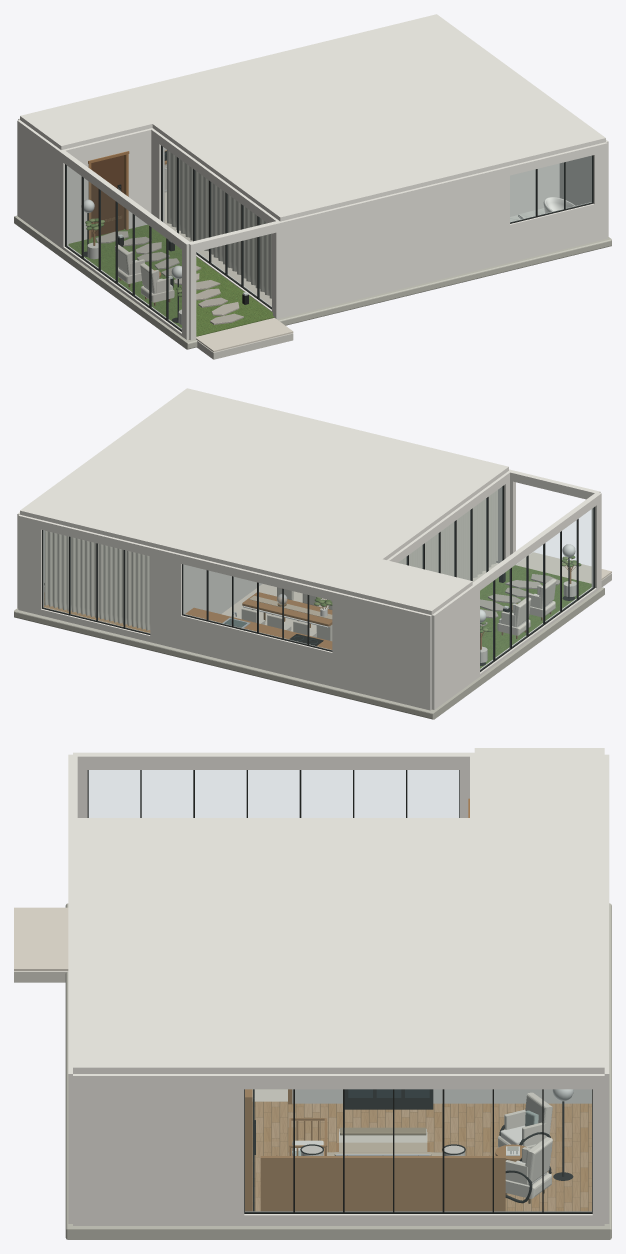
The model's file is home.glb.
3 renders of one model, top to bottom at view 1: azimuth 30°, elevation 25°; view 2: azimuth 150°, elevation 25°; view 3: azimuth 270°, elevation 25°, orthographic. The views are drawn at different scales.
Visible parts, largest first — view 1: 构件_799, 完整墙体 (×17), 构件_86, 构件_126, 构件_35, 构件_6, 构件_800, 构件_73, 构件_793, 构件_792, 构件_162, 构件_8 (+2 smaller); view 2: 构件_799, 完整墙体 (×16), 构件_86, 构件_57, 构件_46, 构件_35, 构件_126, 构件_800, 构件_797, 构件_796, 构件_792, 构件_6 (+5 smaller); view 3: 构件_799, 完整墙体 (×12), 构件_103, 构件_86, 构件_5, 构件_604, 构件_35, 构件_800, 构件_8, 构件_511, 构件_104, 构件_494 (+4 smaller).
Part boxes in pixels (x1,y1,x2,y2): 构件_799: [111, 14, 605, 221]; 完整墙体 (×17): [17, 120, 608, 340]; 构件_86: [66, 165, 181, 329]; 构件_126: [162, 147, 271, 307]; 构件_35: [14, 215, 611, 349]; 构件_6: [68, 224, 274, 336]; 构件_800: [20, 93, 152, 149]; 构件_73: [510, 156, 591, 222]; 构件_793: [167, 150, 222, 261]; 构件_792: [223, 191, 271, 298]; 构件_162: [91, 155, 123, 237]; 构件_8: [196, 318, 293, 352]; 构件_799: [20, 388, 508, 592]; 完整墙体 (×16): [18, 469, 601, 710]; 构件_86: [480, 508, 593, 670]; 构件_57: [43, 531, 149, 633]; 构件_46: [183, 565, 331, 650]; 构件_35: [14, 587, 604, 719]; 构件_126: [399, 487, 502, 581]; 构件_800: [341, 559, 472, 614]; 构件_797: [44, 530, 99, 617]; 构件_796: [100, 544, 150, 630]; 构件_792: [442, 490, 497, 580]; 构件_6: [480, 565, 591, 668]; 构件_799: [73, 818, 604, 1073]; 完整墙体 (×12): [68, 752, 609, 1225]; 构件_103: [245, 1090, 591, 1211]; 构件_86: [89, 770, 458, 817]; 构件_5: [252, 1101, 591, 1211]; 构件_604: [260, 1156, 505, 1211]; 构件_35: [65, 903, 611, 1239]; 构件_800: [474, 748, 604, 817]; 构件_8: [14, 907, 68, 970]; 构件_511: [344, 1089, 433, 1109]; 构件_104: [244, 1211, 592, 1213]; 构件_494: [245, 1096, 252, 1211].
Size of what is drawn, in the model's own units: 13.05 by 3.16 by 10.12.
130 materials, 4 textured.
